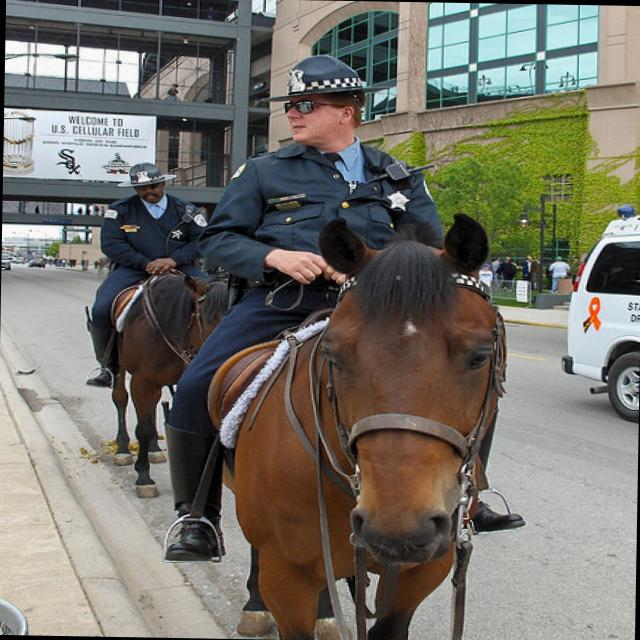Vehicle: (560, 199, 640, 426), (557, 203, 640, 419), (26, 258, 45, 268), (1, 251, 10, 271), (1, 252, 10, 268)
